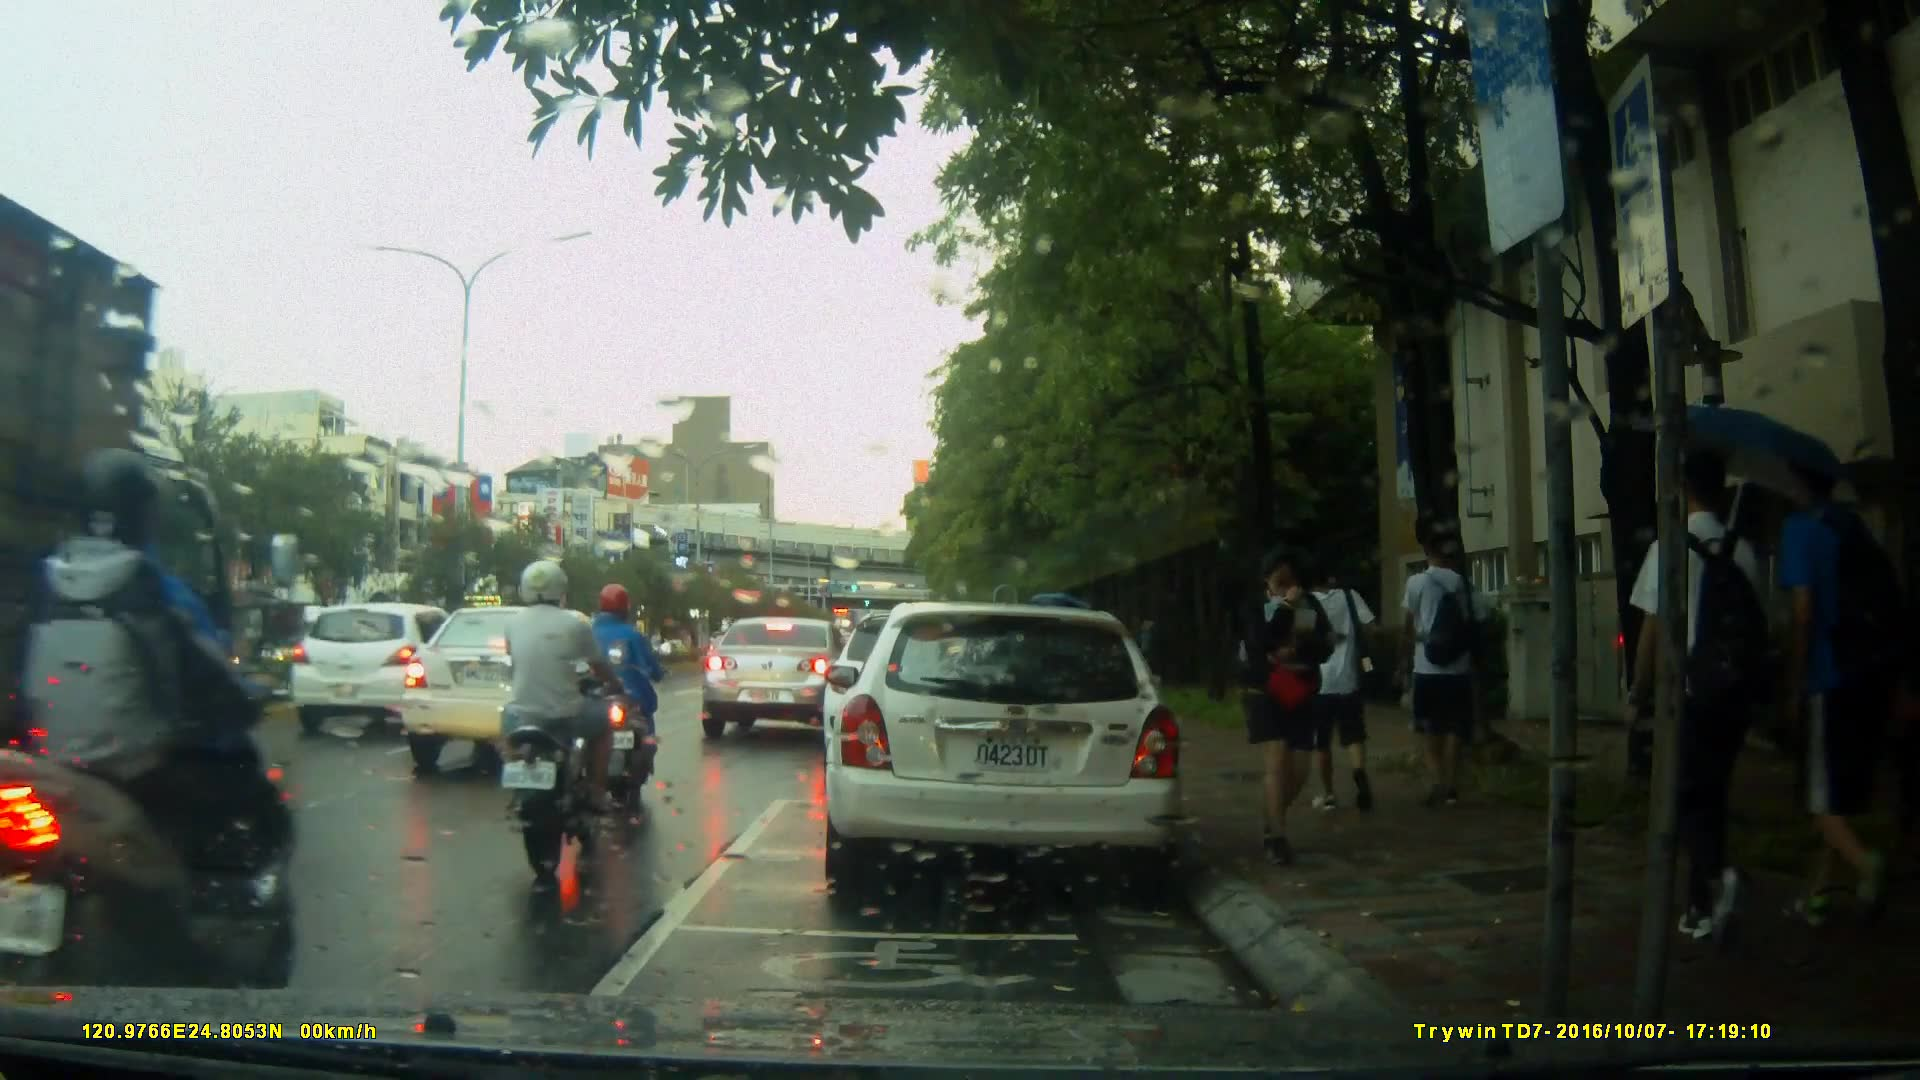pedestrian: (1731, 417, 1887, 943), (1615, 435, 1761, 952), (1386, 519, 1488, 821), (1234, 556, 1329, 864), (1293, 559, 1372, 822)
rider: (7, 450, 302, 1059), (498, 553, 619, 869), (582, 584, 676, 798)
vehicle: (820, 602, 1188, 898), (395, 604, 655, 780), (287, 601, 488, 735), (699, 614, 868, 741)
